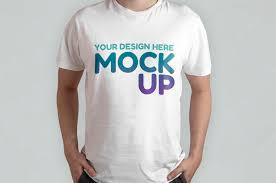Tshirt: (53, 0, 216, 182)
